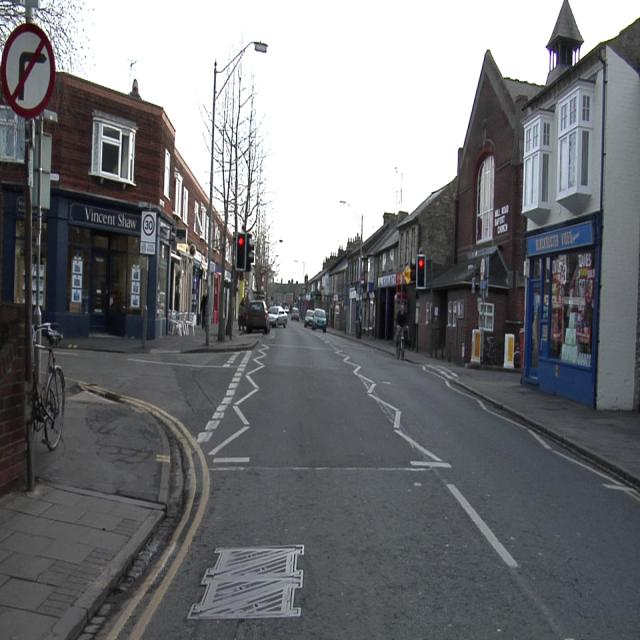Bicyclist: (395, 305, 408, 358)
Building: (308, 0, 639, 409), (1, 0, 226, 339)
Car: (240, 300, 269, 332), (269, 307, 287, 327), (312, 309, 327, 331), (304, 309, 314, 327)
Road: (83, 321, 637, 639)
Tree: (218, 33, 275, 298), (37, 1, 93, 75)
